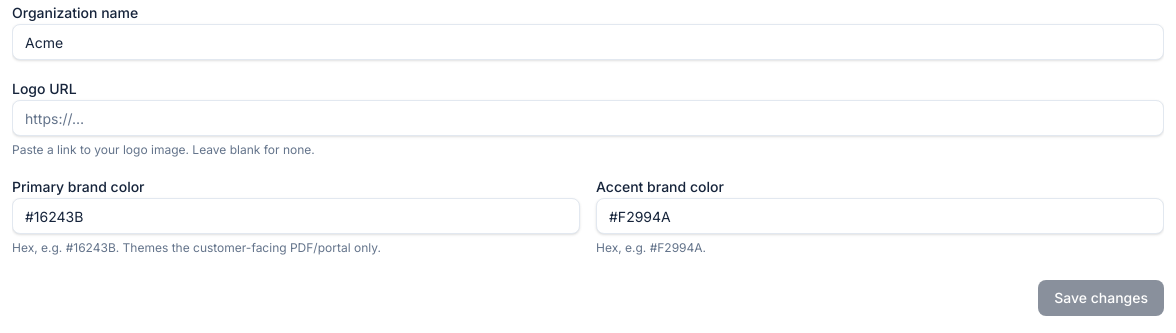
Test case: CompanyProfileForm (Step 8) › disables Save until the form is dirty, then shows the unsaved indicator
Expected: the button "Save changes" is disabled, x1=1038 y1=280 x2=1164 y2=316
Replace the text in the field labelled "Organization name" with "Acme Plumbing" at (588, 42), box x1=12 y1=24 x2=1164 y2=60
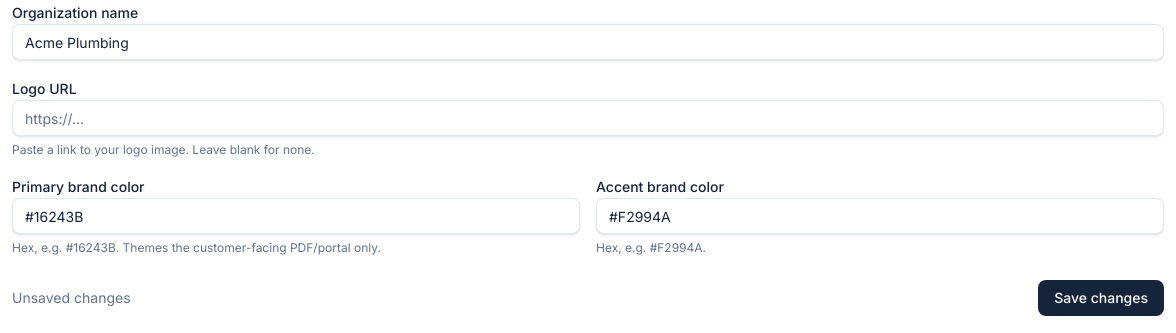
Now the text "Unsaved changes" is shown, box x1=12 y1=289 x2=131 y2=306
Now the button "Save changes" is enabled, box x1=1038 y1=280 x2=1164 y2=316
